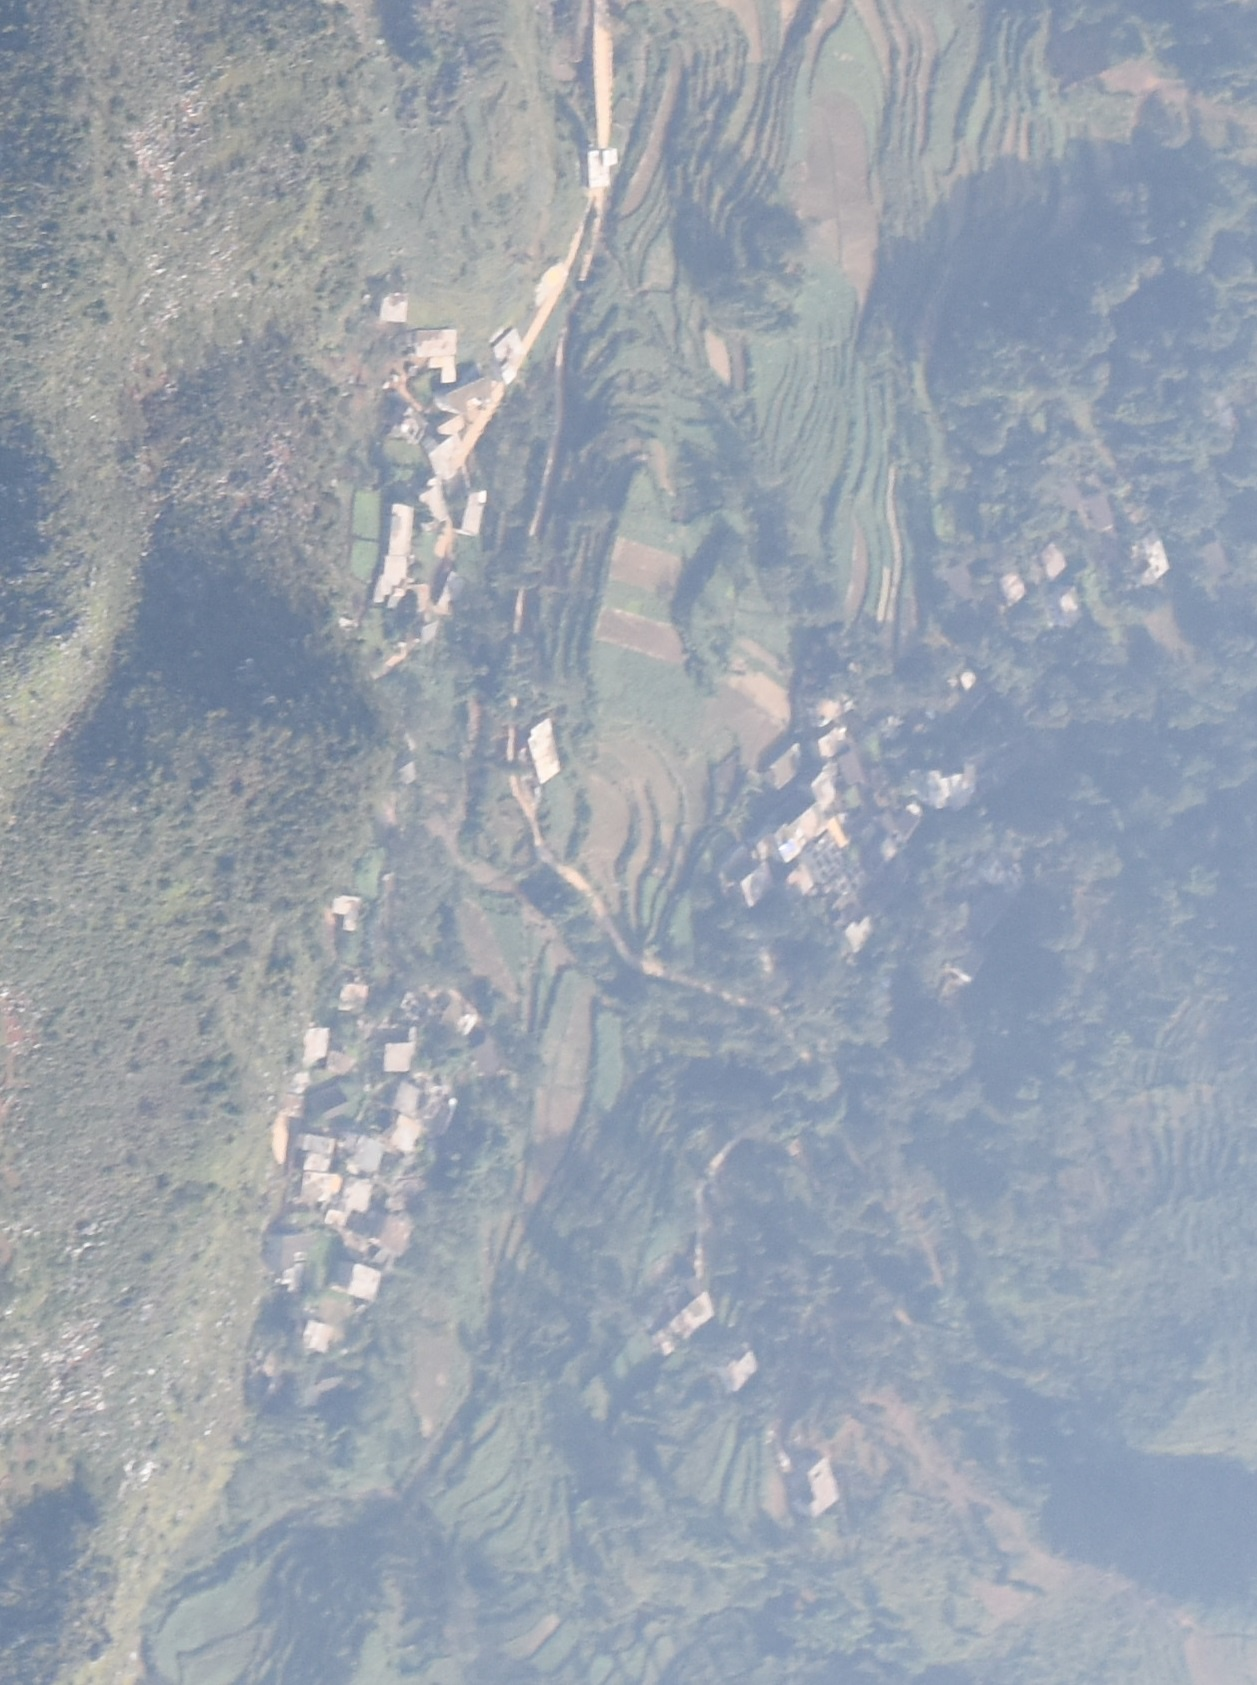building: (735, 808, 871, 952), (650, 1289, 716, 1356), (374, 504, 414, 605), (793, 1452, 843, 1519), (435, 376, 490, 432), (412, 327, 458, 382), (525, 718, 563, 782), (332, 1258, 382, 1301), (882, 806, 921, 859), (1133, 530, 1170, 585), (926, 769, 973, 807), (806, 690, 856, 725), (422, 432, 461, 475), (723, 1349, 760, 1394), (763, 744, 803, 785), (294, 1134, 336, 1172), (346, 1131, 382, 1173), (809, 773, 849, 810), (330, 891, 364, 933), (420, 482, 453, 524), (295, 1174, 342, 1203), (389, 1116, 425, 1152), (490, 324, 524, 362), (459, 490, 486, 537), (589, 146, 618, 189), (994, 568, 1025, 606), (1038, 540, 1068, 578), (377, 289, 410, 323), (381, 1042, 416, 1074), (303, 1319, 335, 1354), (435, 573, 461, 616), (301, 1025, 328, 1066), (336, 981, 370, 1013), (1055, 590, 1086, 625), (341, 1178, 373, 1211), (816, 728, 851, 757), (392, 1081, 421, 1115), (948, 668, 976, 690)
